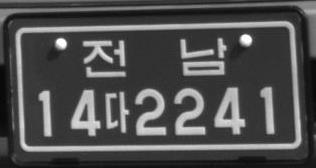1: (255, 84, 281, 136), (33, 89, 59, 137)
2: (133, 86, 168, 136), (173, 86, 207, 136)
4: (213, 85, 246, 135), (69, 88, 101, 137)
다: (103, 90, 129, 134)
전남_D: (81, 36, 227, 78)
